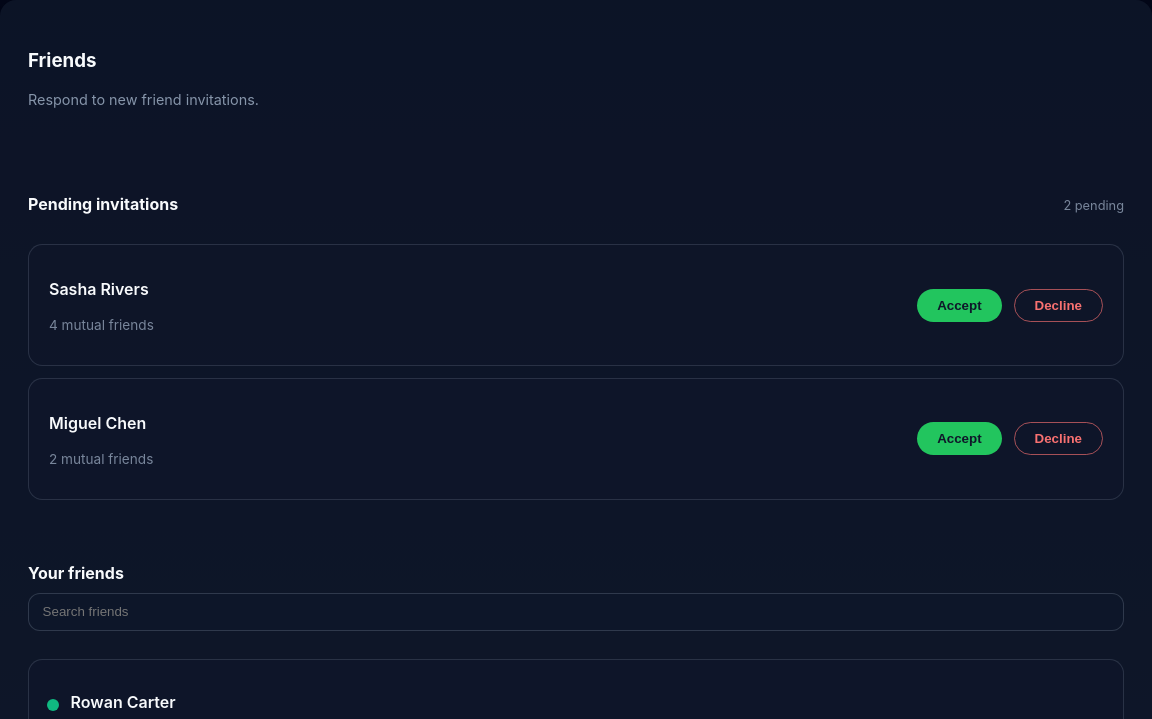
it: FriendListManagerView › accepts an invite optimistically and surfaces success feedback
The width and height of the screenshot is (1152, 719).
Click the button with aria-label "accept sasha rivers": (959, 305) [917,289,1002,322]
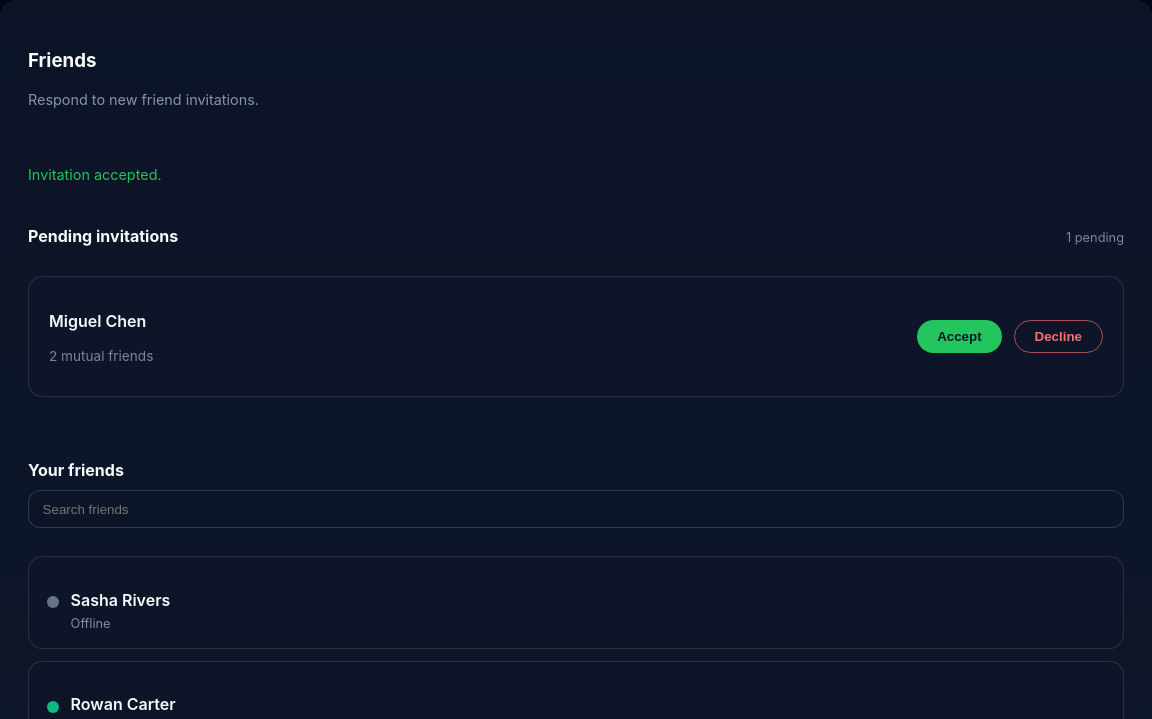
Expected: the text "Rowan Carter" is shown, [71,692,176,716]
Expected: the text "Invitation accepted." is shown, [28,166,162,183]
Expected: the text "1 pending" is shown, [1066,228,1124,247]
